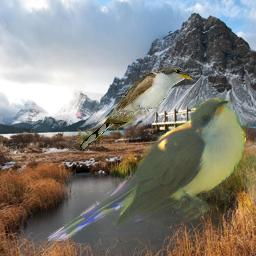Cuckoo: (45, 98, 246, 241), (77, 65, 197, 151)
